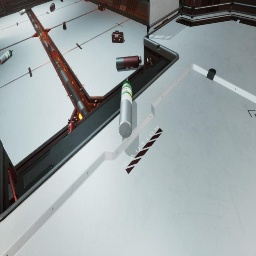0: (119, 78, 132, 138), (0, 50, 13, 64), (19, 9, 27, 15)
FireExtinguisher ]: (68, 119, 77, 134), (63, 21, 66, 30), (60, 0, 63, 2)
FirstAidBox ,: (112, 31, 124, 43), (98, 2, 105, 11), (84, 0, 89, 2)
NitrogenTank ,: (116, 56, 142, 70), (48, 43, 57, 58), (50, 3, 55, 12)
